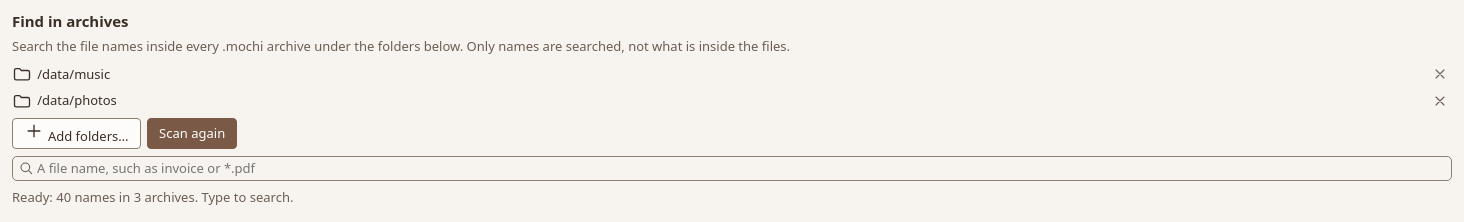
Test case: the folders are listed, a folder is removed by its position, and Scan needs a folder
The width and height of the screenshot is (1464, 222).
Expected: the elements with test id "find-scope" read "/data/music", "/data/photos", in this order, left=12, top=62, right=1452, bottom=86; left=12, top=88, right=1452, bottom=112
Expected: the button with test id "find-scan" is enabled, left=147, top=118, right=237, bottom=149
Click the 1st button with test id "find-remove-scope".
click(1440, 74)  # box left=1428, top=62, right=1452, bottom=86
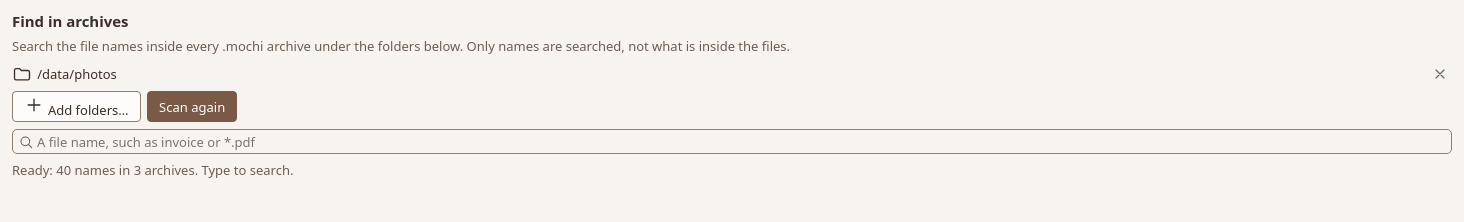
Now the number of list items with test id "find-scope" is 1, box left=12, top=62, right=1452, bottom=86
Click the button with test id "find-remove-scope".
click(1440, 74)  # box left=1428, top=62, right=1452, bottom=86
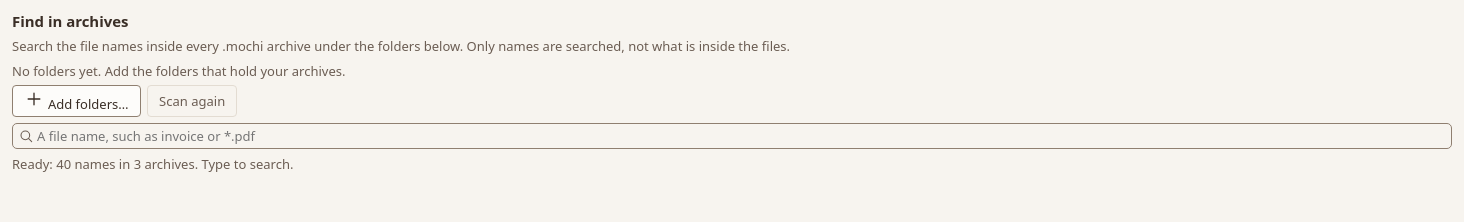
Now the text "No folders yet. Add the folders that hold your archives." is shown, box left=12, top=62, right=345, bottom=80
Now the button with test id "find-scan" is disabled, box left=147, top=85, right=237, bottom=117
